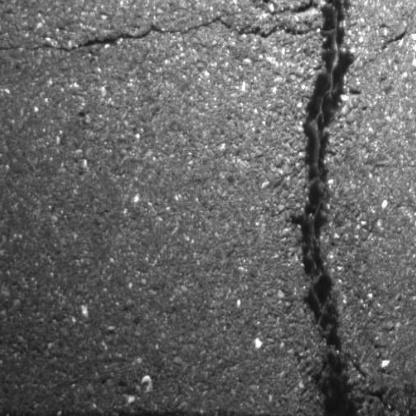Cracks: (0, 0, 322, 57), (346, 0, 416, 79)
